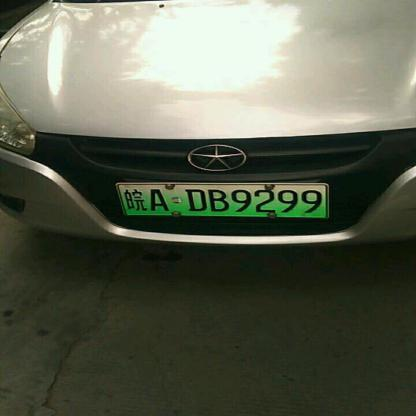lp: (118, 184, 326, 215)
